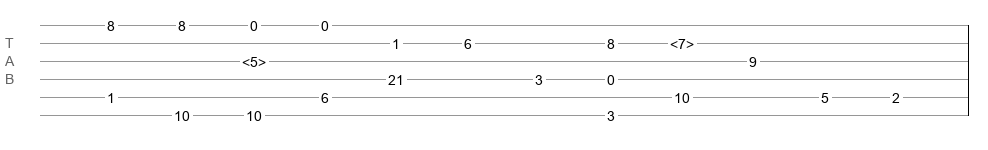0: (250, 18, 258, 28), (321, 18, 329, 28), (607, 72, 615, 82)
1: (107, 90, 115, 100), (392, 36, 400, 46)
10: (174, 108, 190, 118), (246, 108, 262, 118), (674, 90, 690, 100)
2: (892, 90, 900, 100)
21: (388, 72, 404, 82)
3: (535, 72, 543, 82), (607, 108, 615, 118)
5: (821, 90, 829, 100)
6: (321, 90, 329, 100), (464, 36, 472, 46)
8: (107, 18, 115, 28), (178, 18, 186, 28), (607, 36, 615, 46)
9: (749, 54, 757, 64)
harmonic: (242, 54, 266, 64), (670, 36, 694, 46)
